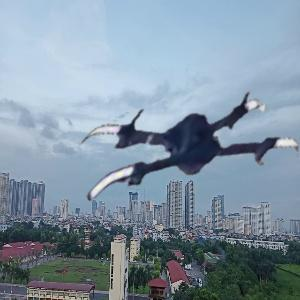drone: (83, 61, 297, 275)
